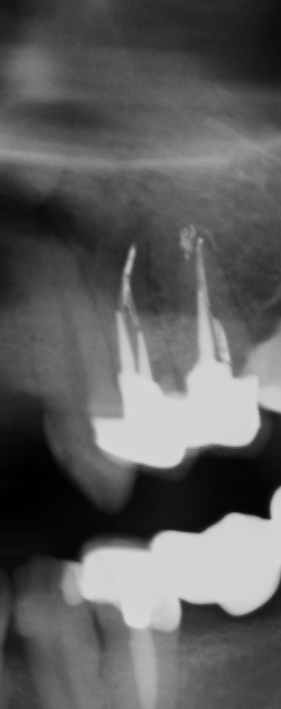fracture: (124, 239, 140, 275)
